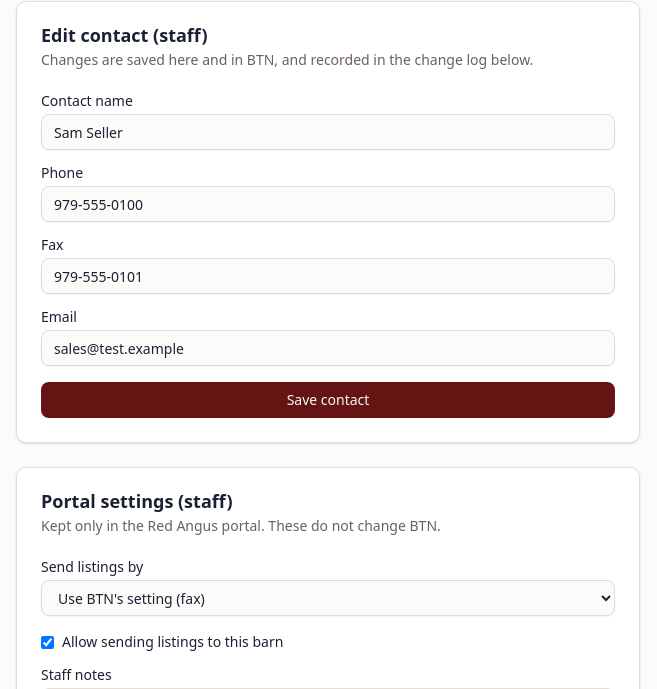
Scenario: barn detail › staff: nothing changed means nothing sent
The image size is (657, 689).
(page scrolled)
Check: the field labelled "Fax" is shown, box [41,258,615,294]
Click the button "Save contact".
click(328, 400)  # box [41,382,615,418]
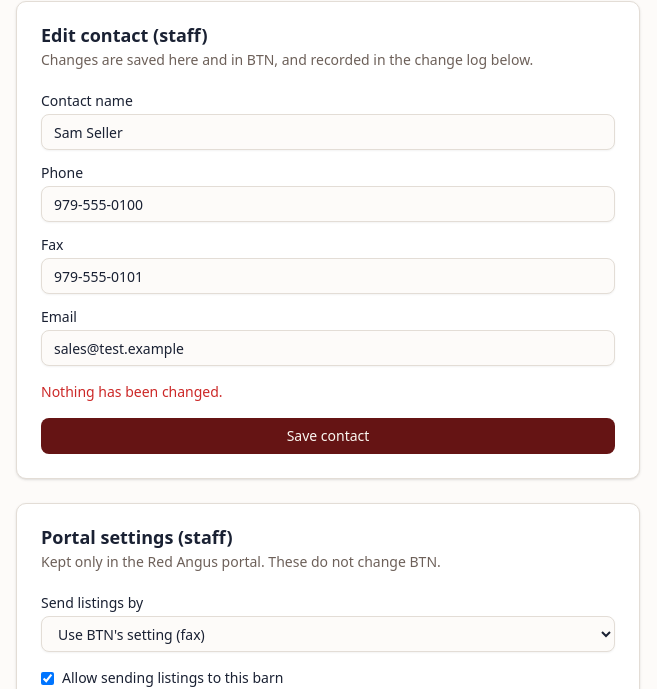
Check: the text "Nothing has been changed." is shown, box [41,382,223,401]
